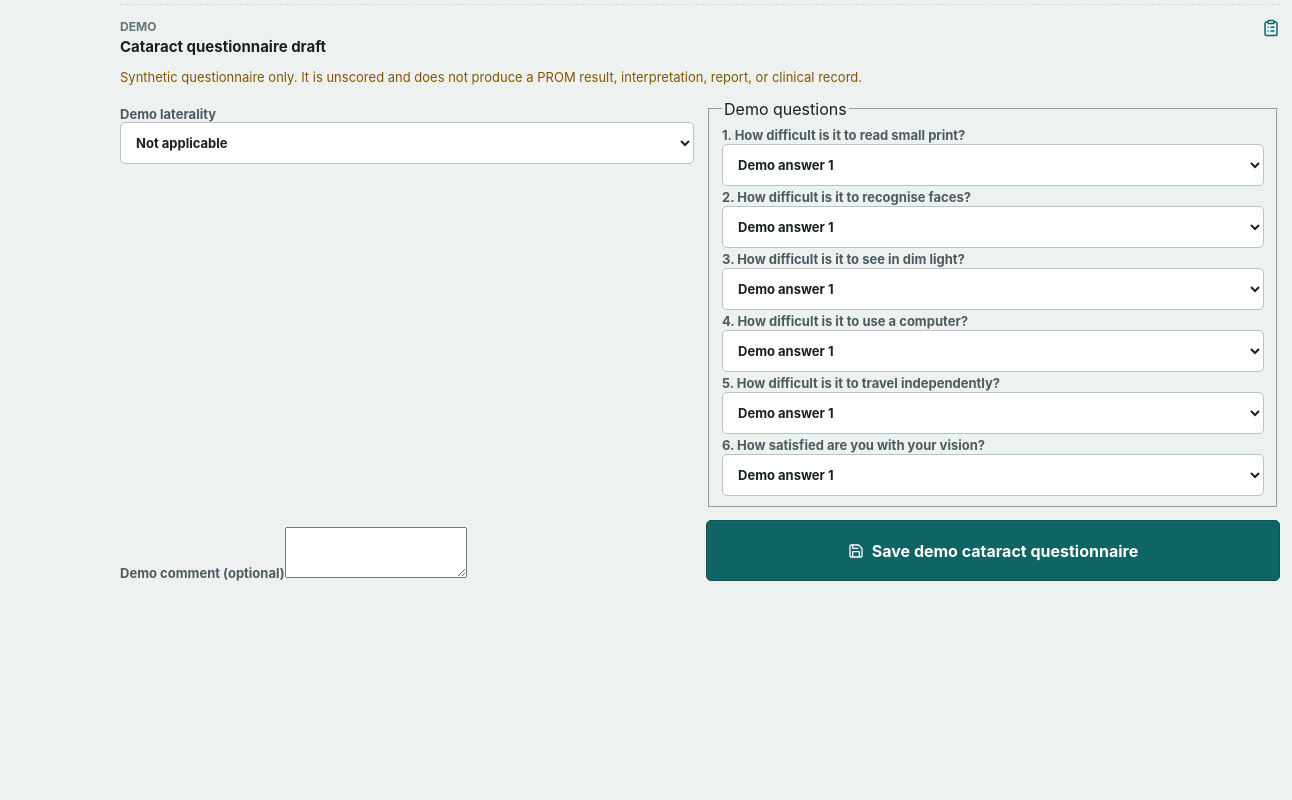
Test case: CatpromDraftDemo › saves six synthetic answers without score fields
Step 1. Click the button "Save demo cataract questionnaire" → (993, 551), box [706,520,1280,581]
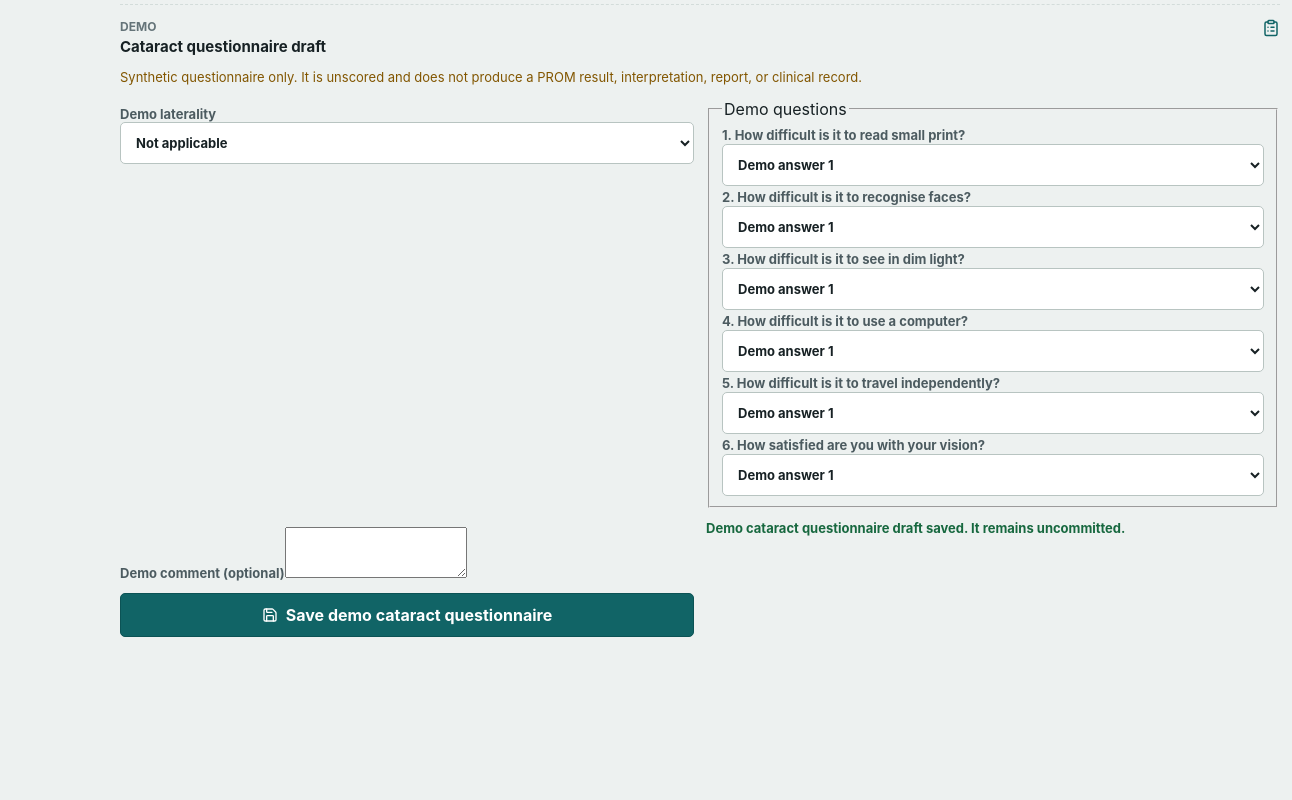
Expected: the text "Demo cataract questionnaire draft saved. It remains uncommitted." is shown, [706,520,1125,536]
